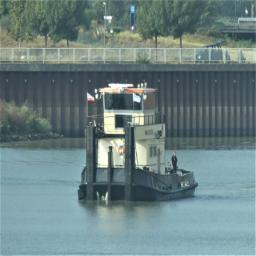tugboat: (77, 82, 200, 208)
